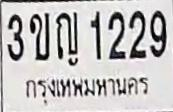1: (90, 11, 101, 60)
2: (128, 10, 146, 58), (108, 11, 125, 59)
3: (6, 13, 23, 60)
9: (150, 10, 166, 57)
A02: (29, 12, 49, 60)
A13: (56, 12, 80, 66)
BKK: (22, 72, 153, 106)
